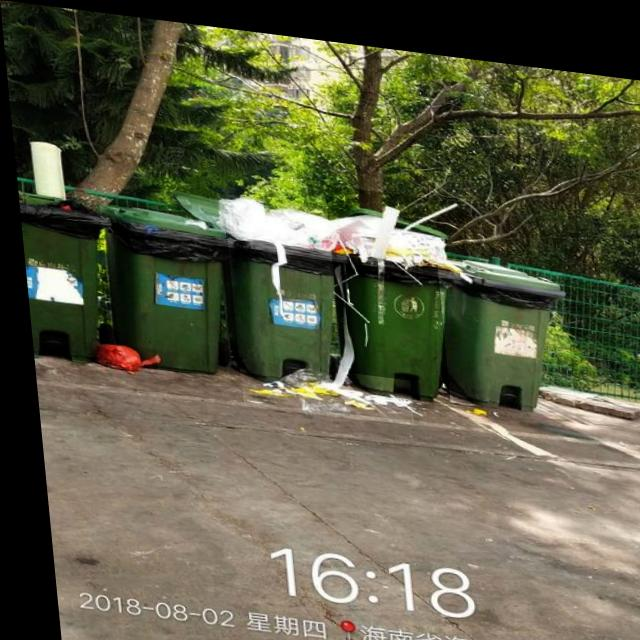garbage: (233, 354, 406, 415), (85, 340, 151, 371)
garbage_bin: (95, 199, 234, 371), (433, 245, 569, 404), (15, 191, 117, 364)
overflow: (322, 177, 476, 397), (214, 188, 351, 383)
